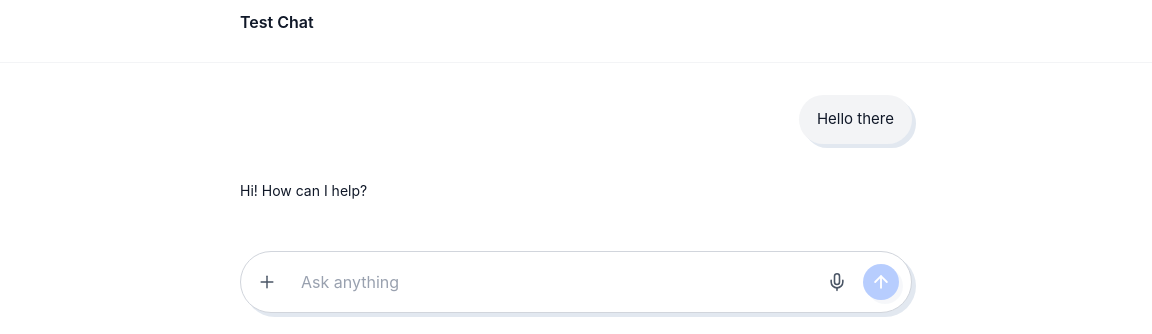
it: ChatArea › Anhang-Plus-Menü › öffnet beim Klick auf Plus ein Menü, nicht direkt den File-Picker
Click the button with test id "attach-plus-button" at x=267, y=282, box [249,264,285,300]
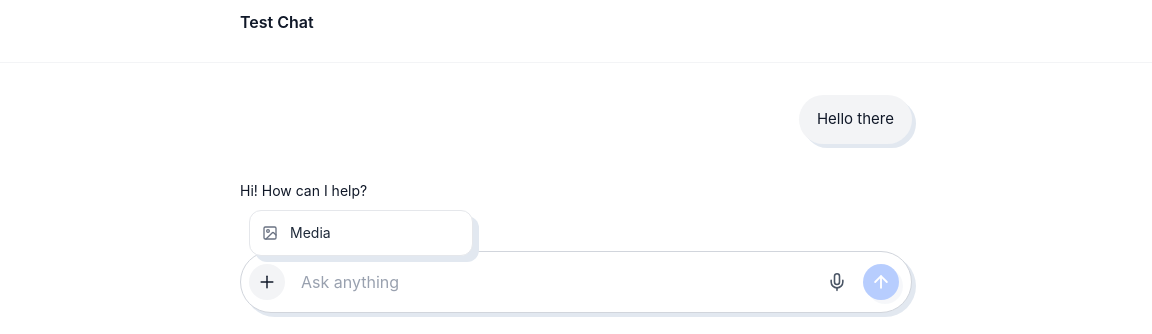
expect the menu with test id "attach-menu" is shown: met, box [249,210,473,256]
expect the menu item with test id "attach-menu-files" reads "Media": met, box [250,214,472,250]
